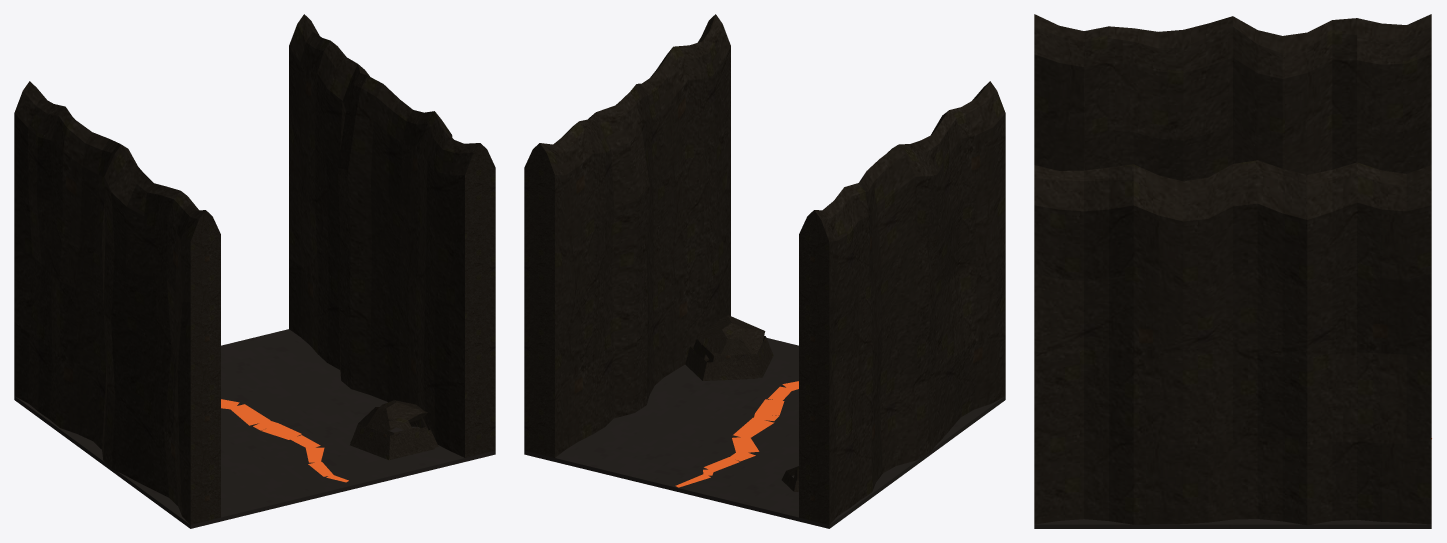
The model's file is dungeon_corridor_4_lava.glb.
The picture shows the model from 3 angles, left to right: view 1: azimuth 30°, elevation 25°; view 2: azimuth 150°, elevation 25°; view 3: azimuth 270°, elevation 25°; orthographic projection. The views are drawn at different scales.
Parts seen in each view (by area): view 1: dungeon_corridor_4_lava; view 2: dungeon_corridor_4_lava; view 3: dungeon_corridor_4_lava.
Part boxes in pixels (x1=…): dungeon_corridor_4_lava: x1=14, y1=14, x2=495, y2=528; dungeon_corridor_4_lava: x1=524, y1=14, x2=1005, y2=528; dungeon_corridor_4_lava: x1=1034, y1=14, x2=1431, y2=528.
Bounding box in the file's own units: 4.09 × 3.96 × 4.01.
3 materials, 3 textured.
